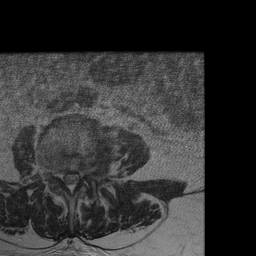CCS_normal: (68, 167, 74, 200)
LFS_stenosis: (80, 161, 88, 183)
LLS_normal: (74, 165, 80, 193)
RFS_stenosis: (54, 163, 61, 187)
RLS_normal: (61, 165, 68, 191)
